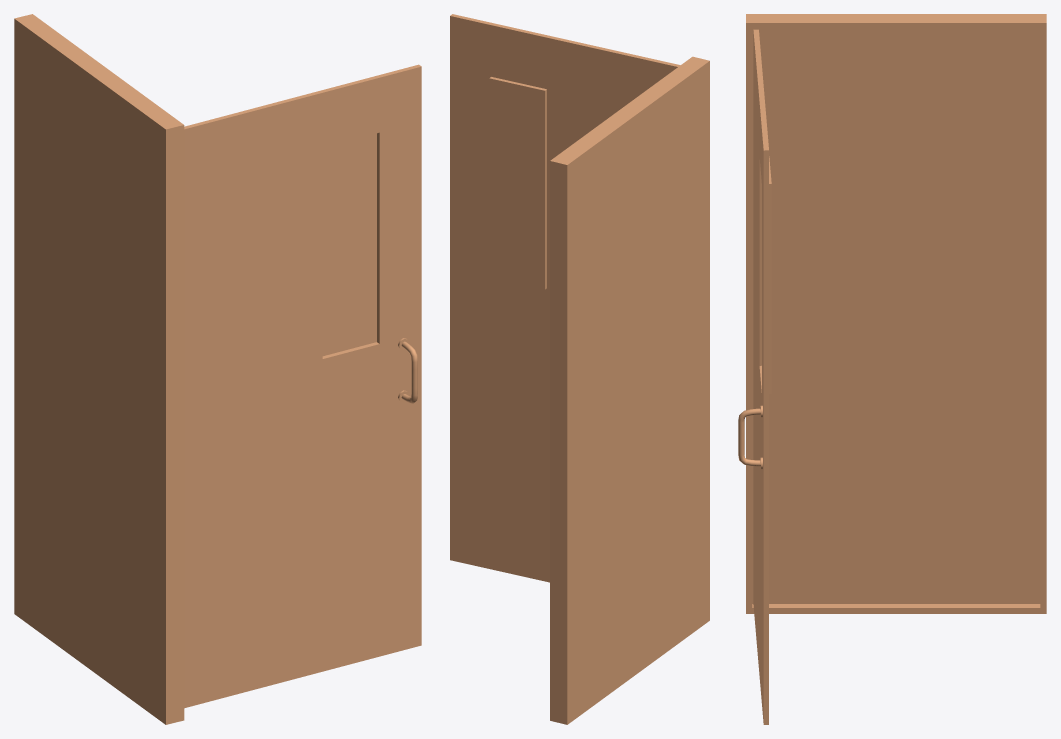
File: Door open.fbx
The picture shows the model from 3 angles, left to right: view 1: azimuth 30°, elevation 25°; view 2: azimuth 150°, elevation 25°; view 3: azimuth 270°, elevation 25°; orthographic projection. The views are drawn at different scales.
Parts seen in each view (by area): view 1: Cube.028, Cube.027, NurbsPath.002; view 2: Cube.027, Cube.028; view 3: Cube.027, Cube.028, NurbsPath.002.
Boxes of the visible parts, box(x1,y1,x2,y2) form: Cube.028: box(184, 64, 421, 708); Cube.027: box(14, 14, 184, 724); NurbsPath.002: box(398, 338, 417, 403); Cube.027: box(550, 56, 709, 724); Cube.028: box(450, 14, 680, 582); Cube.027: box(746, 14, 1046, 613); Cube.028: box(753, 29, 771, 724); NurbsPath.002: box(738, 405, 762, 469).
Size of the model in its own units: 110 by 237 by 112.
